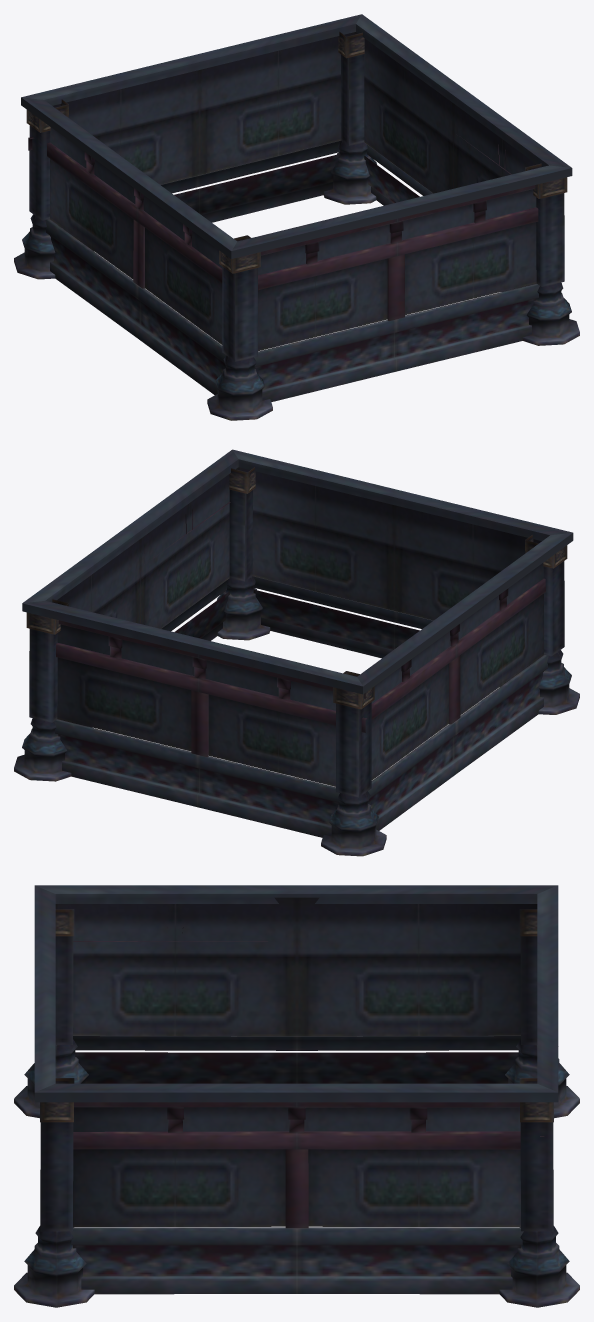
The model's file is Map03_Building_03A.FBX.
The picture shows the model from 3 angles, top to bottom: view 1: azimuth 30°, elevation 25°; view 2: azimuth 150°, elevation 25°; view 3: azimuth 270°, elevation 25°; orthographic projection. The views are drawn at different scales.
Visible parts, largest first — view 1: Map03_Building_03A, Box315; view 2: Map03_Building_03A, Box315; view 3: Map03_Building_03A, Box315.
Part boxes in pixels (x1,y1,x2,y2): Map03_Building_03A: (14, 31, 579, 420); Box315: (21, 14, 572, 258); Map03_Building_03A: (14, 467, 579, 856); Box315: (22, 449, 573, 694); Map03_Building_03A: (14, 897, 579, 1307); Box315: (34, 885, 558, 1102).
Size of the model in its own units: 1010 by 440 by 1086.
